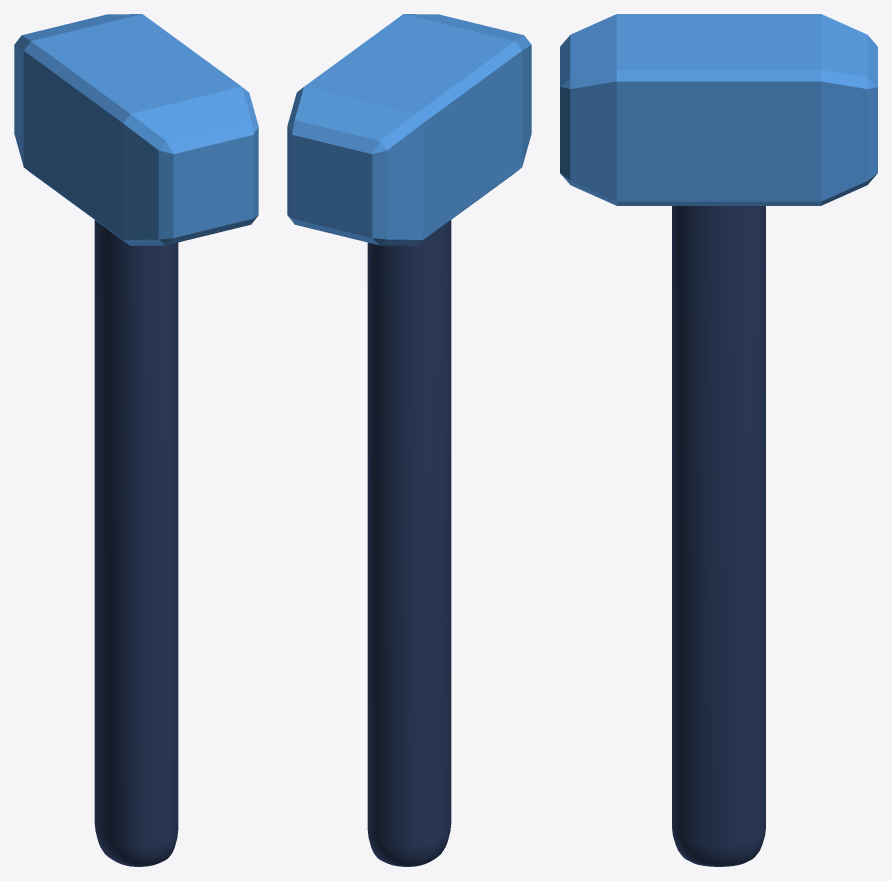
File: hammer.fbx
The picture shows the model from 3 angles, left to right: view 1: azimuth 30°, elevation 25°; view 2: azimuth 150°, elevation 25°; view 3: azimuth 270°, elevation 25°; orthographic projection. The views are drawn at different scales.
Visible parts, largest first — view 1: Cylinder, Cube; view 2: Cylinder, Cube; view 3: Cylinder, Cube.
Part boxes in pixels (x1,y1,x2,y2): Cylinder: (94,220,178,866); Cube: (14,14,258,245); Cylinder: (367,220,451,866); Cube: (287,14,531,245); Cylinder: (672,206,765,866); Cube: (560,14,877,205).
Bounding box in the file's own units: 288 × 610 × 1724.
